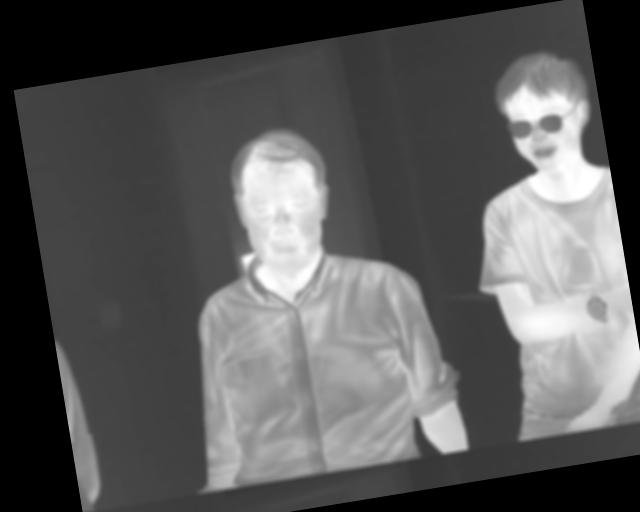face: (222, 120, 343, 281), (492, 43, 601, 179)
